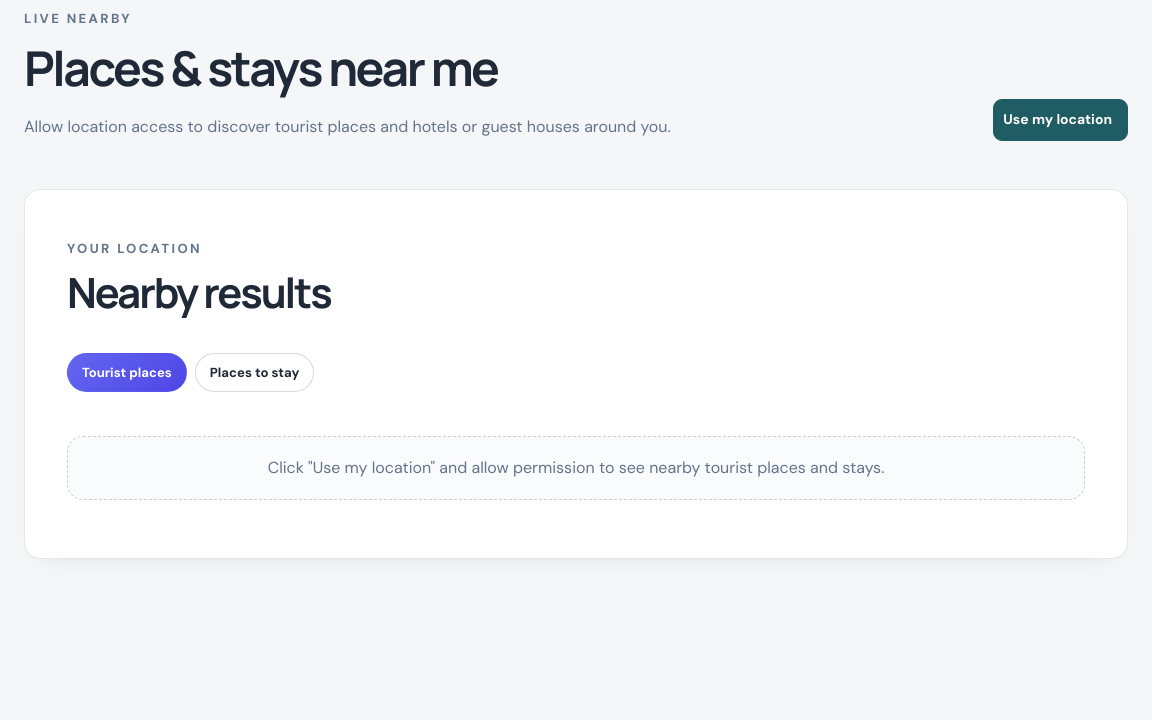
it: NearMePage › handles a browser without geolocation
What coordinates should you click on to do the following:
click the button "Use my location"
I would click on:
 (1061, 120)
Its box is x1=993 y1=99 x2=1128 y2=141.
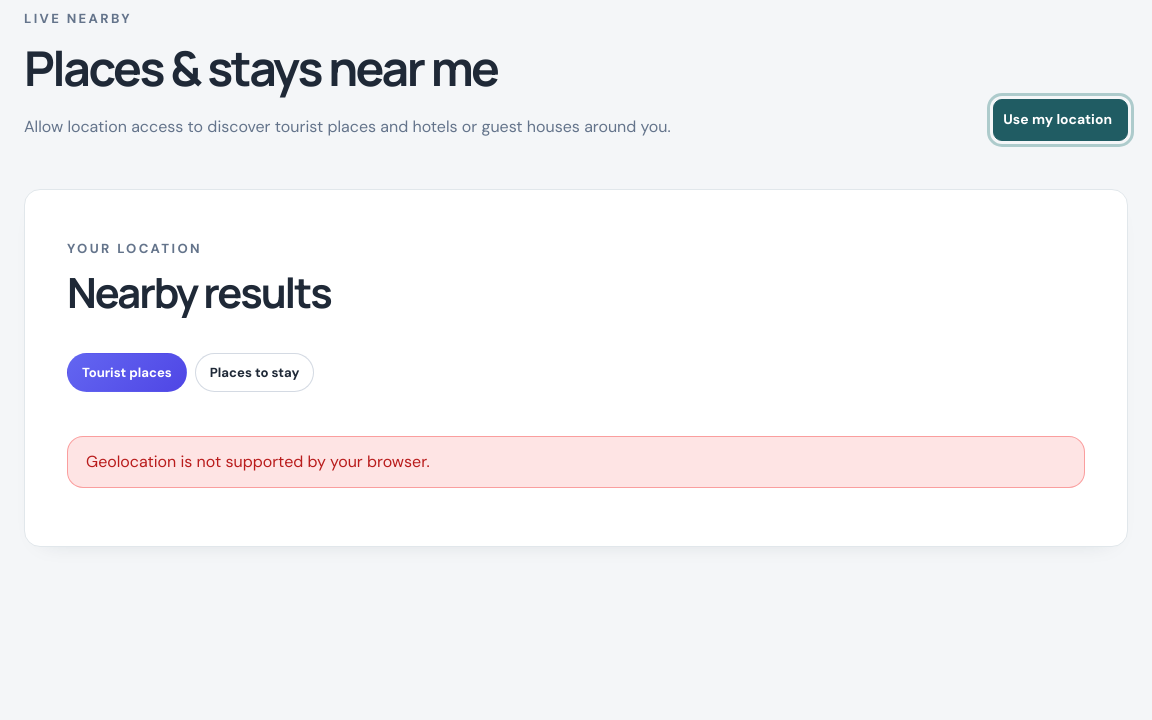
expect the message shows "not supported": met, box x1=86 y1=451 x2=430 y2=472
